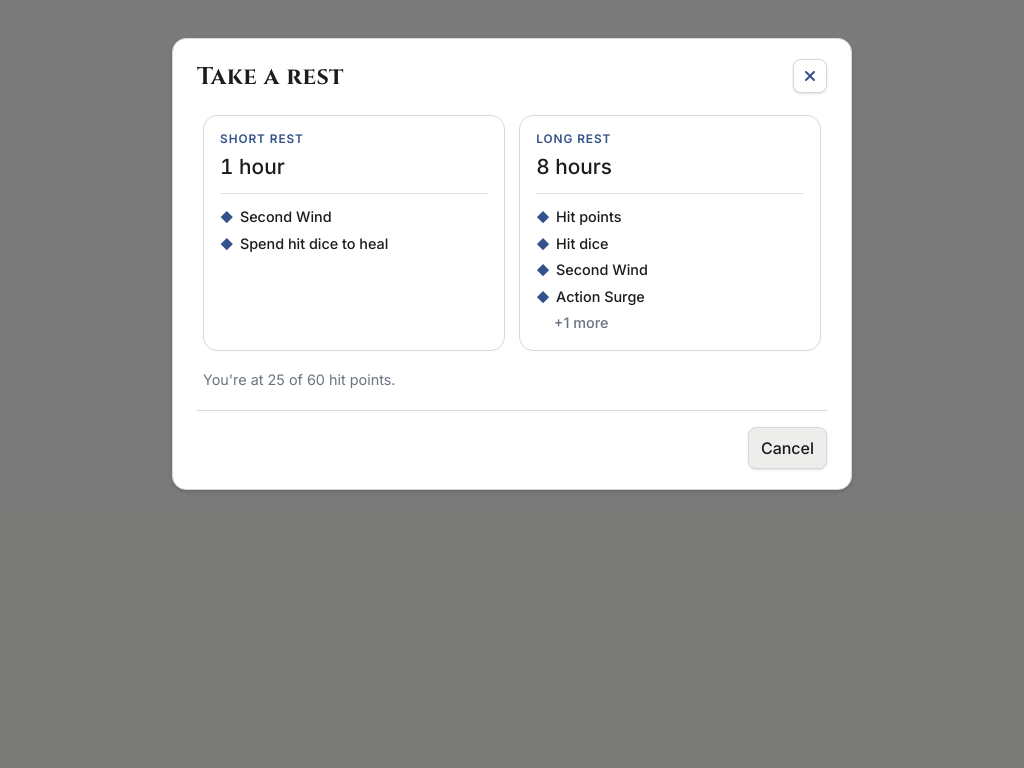
it: RestDialog — taking a rest › names what a short rest won't restore
Click the text "Short rest".
click(262, 139)  # box [220,132,304,146]
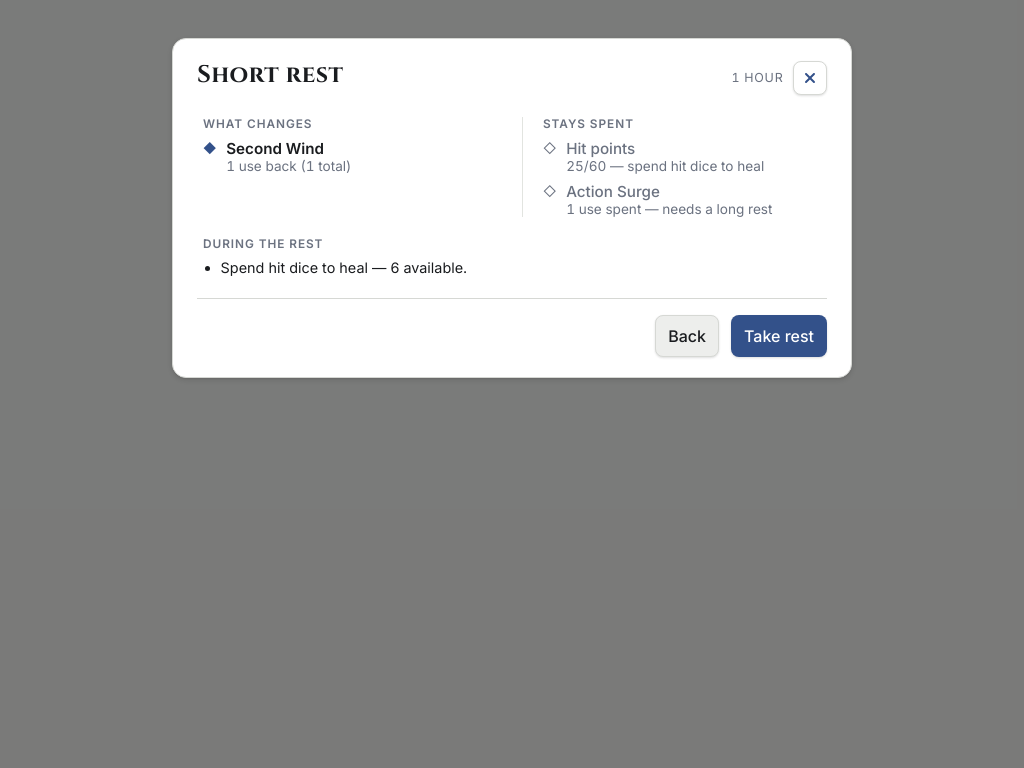
Expected: the text "Action Surge" is shown, [566,182,660,201]
Now the heading "Stays spent" is shown, box [543,117,634,131]
